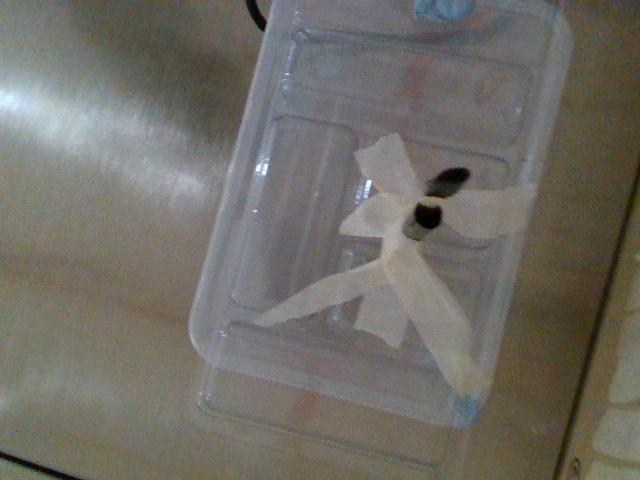test_strip: (418, 165, 470, 206)
